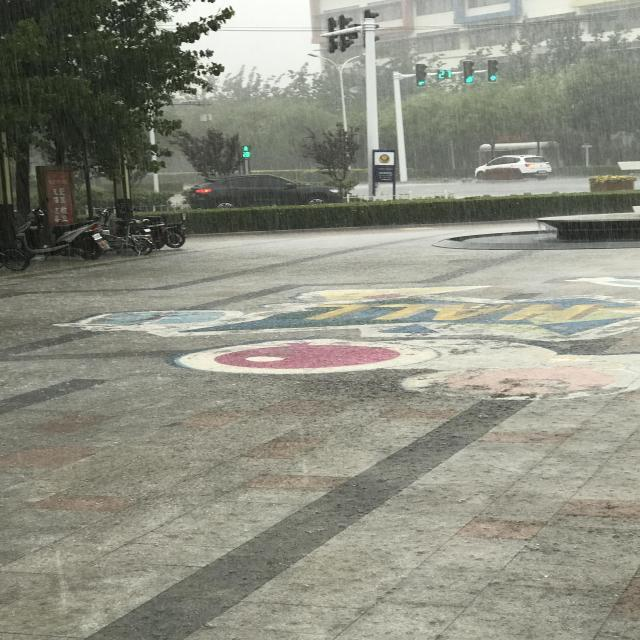car: (174, 295, 212, 455), (155, 76, 176, 172)
